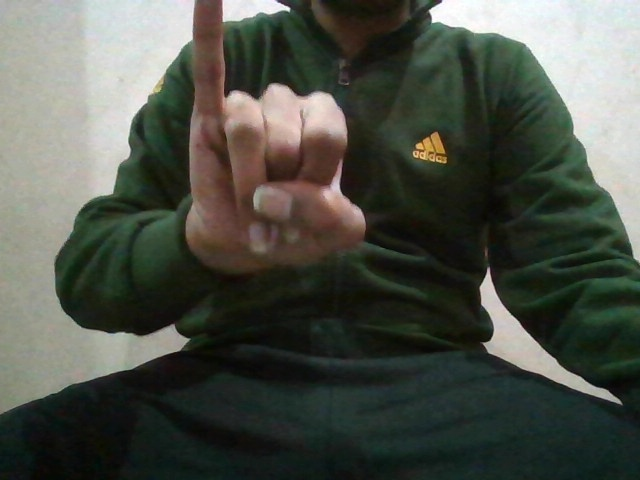I: (176, 1, 372, 273)
